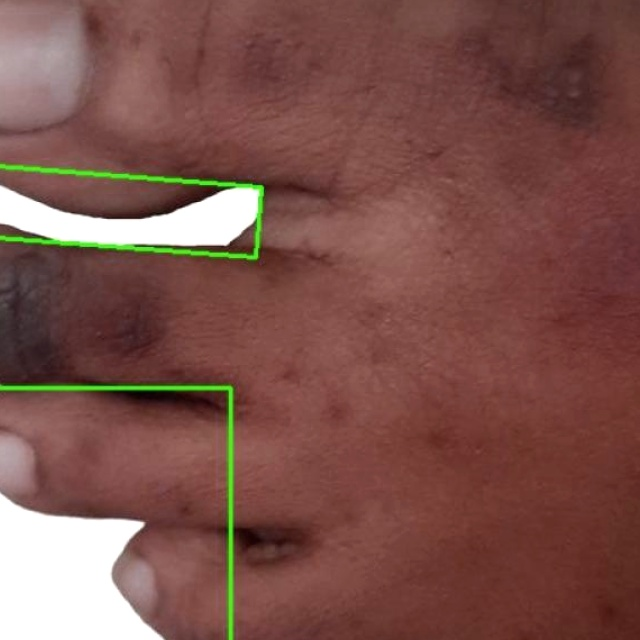Tinea Corporis: (0, 387, 230, 639), (0, 167, 262, 258)
